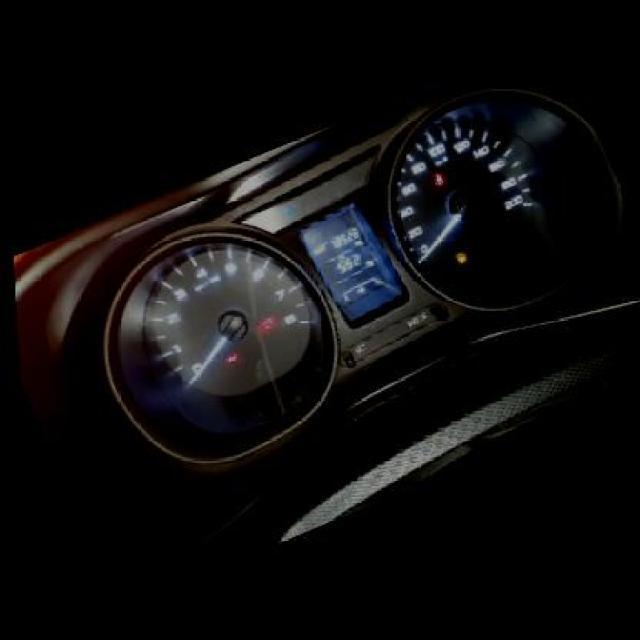Seat Belt: (428, 171, 442, 186)
